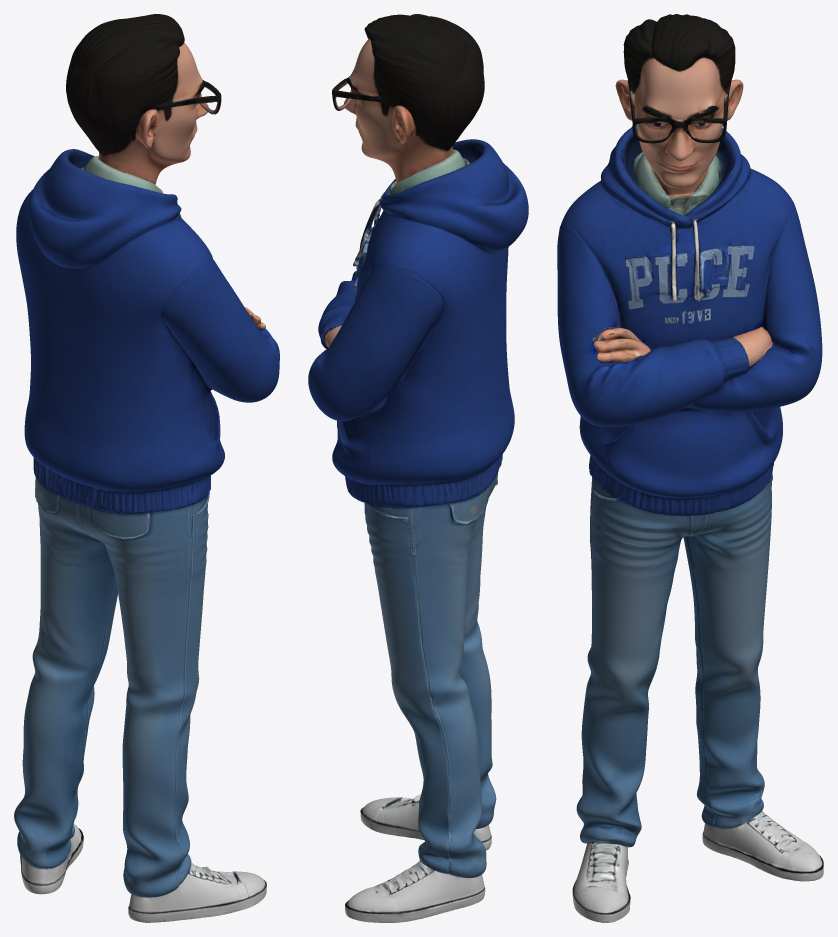
The model's file is asset.glb.
The picture shows the model from 3 angles, left to right: view 1: azimuth 30°, elevation 25°; view 2: azimuth 150°, elevation 25°; view 3: azimuth 270°, elevation 25°; orthographic projection.
Visible parts, largest first — view 1: tripo_node_4ab13a0c-6f66-464e-9d0d-5f08b8d46443; view 2: tripo_node_4ab13a0c-6f66-464e-9d0d-5f08b8d46443; view 3: tripo_node_4ab13a0c-6f66-464e-9d0d-5f08b8d46443.
Boxes of the visible parts, bbox=[...] form: tripo_node_4ab13a0c-6f66-464e-9d0d-5f08b8d46443: bbox=[14, 14, 279, 922]; tripo_node_4ab13a0c-6f66-464e-9d0d-5f08b8d46443: bbox=[308, 14, 528, 922]; tripo_node_4ab13a0c-6f66-464e-9d0d-5f08b8d46443: bbox=[557, 14, 823, 922].
Bounding box in the file's own units: 0.2542 × 0.9998 × 0.2822.
1 material, 1 textured.
